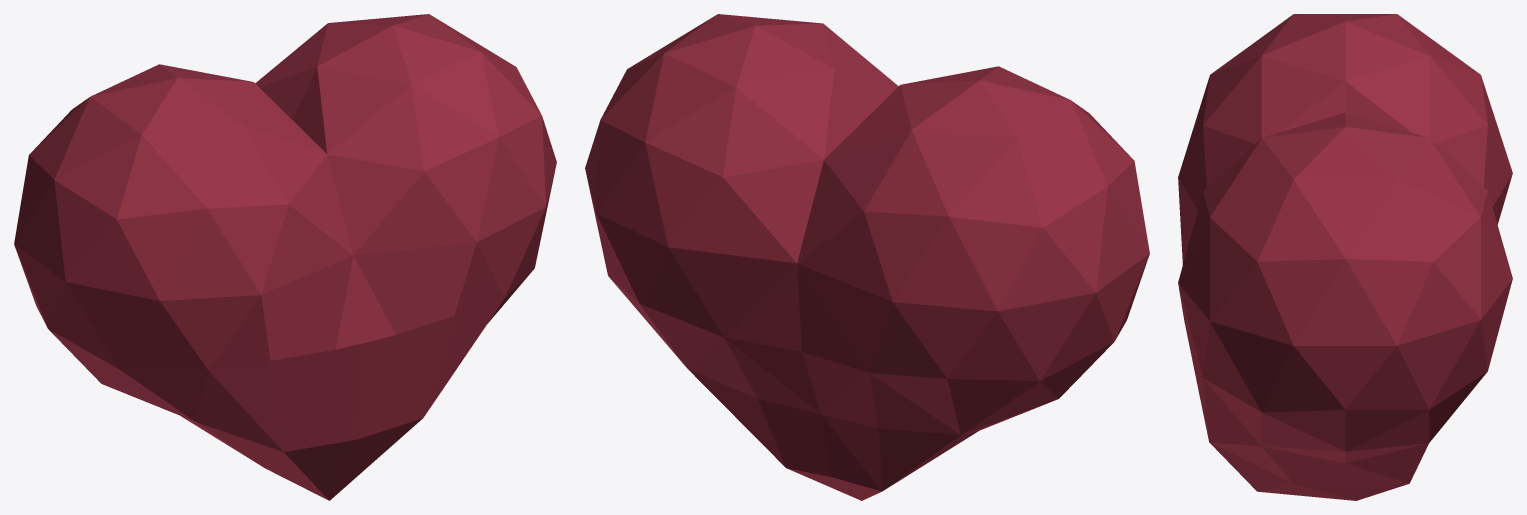
File: heart.glb
3 views of the same model, side by side, from view 1: azimuth 30°, elevation 25°; view 2: azimuth 150°, elevation 25°; view 3: azimuth 270°, elevation 25° (orthographic). The views are drawn at different scales.
Visible parts, largest first — view 1: Heart_Full; view 2: Heart_Full; view 3: Heart_Full.
Boxes of the visible parts, x1,y1,x2,y2 form: Heart_Full: [14, 14, 556, 500]; Heart_Full: [585, 14, 1149, 500]; Heart_Full: [1178, 14, 1512, 500].
Bounding box in the file's own units: 0.9714 × 0.8057 × 0.5728.
